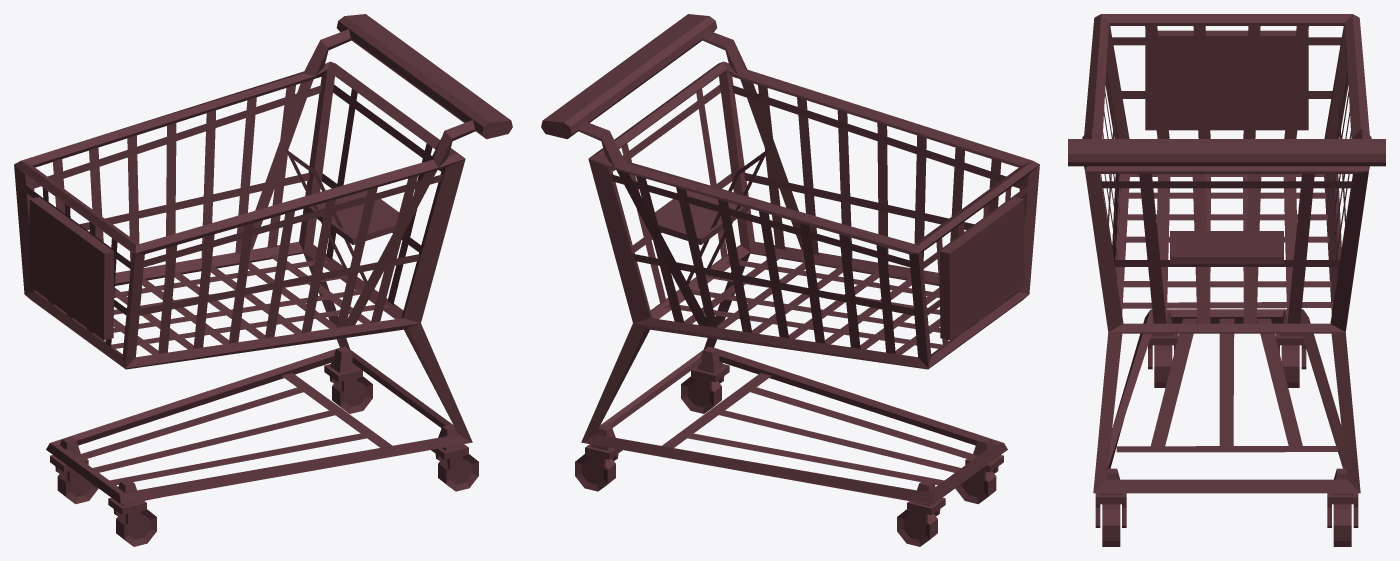
Rendered from shopping-trolley-seat-b.fbx.
3 renders of one model, left to right at view 1: azimuth 30°, elevation 25°; view 2: azimuth 150°, elevation 25°; view 3: azimuth 270°, elevation 25°, orthographic. The views are drawn at different scales.
Parts seen in each view (by area): view 1: shopping-trolley-seat-b; view 2: shopping-trolley-seat-b; view 3: shopping-trolley-seat-b.
Boxes of the visible parts, x1=… form: shopping-trolley-seat-b: x1=14, y1=14, x2=512, y2=546; shopping-trolley-seat-b: x1=541, y1=14, x2=1039, y2=546; shopping-trolley-seat-b: x1=1068, y1=14, x2=1385, y2=546.
Bounding box in the file's own units: 1.15 × 1.1 × 0.7741.
